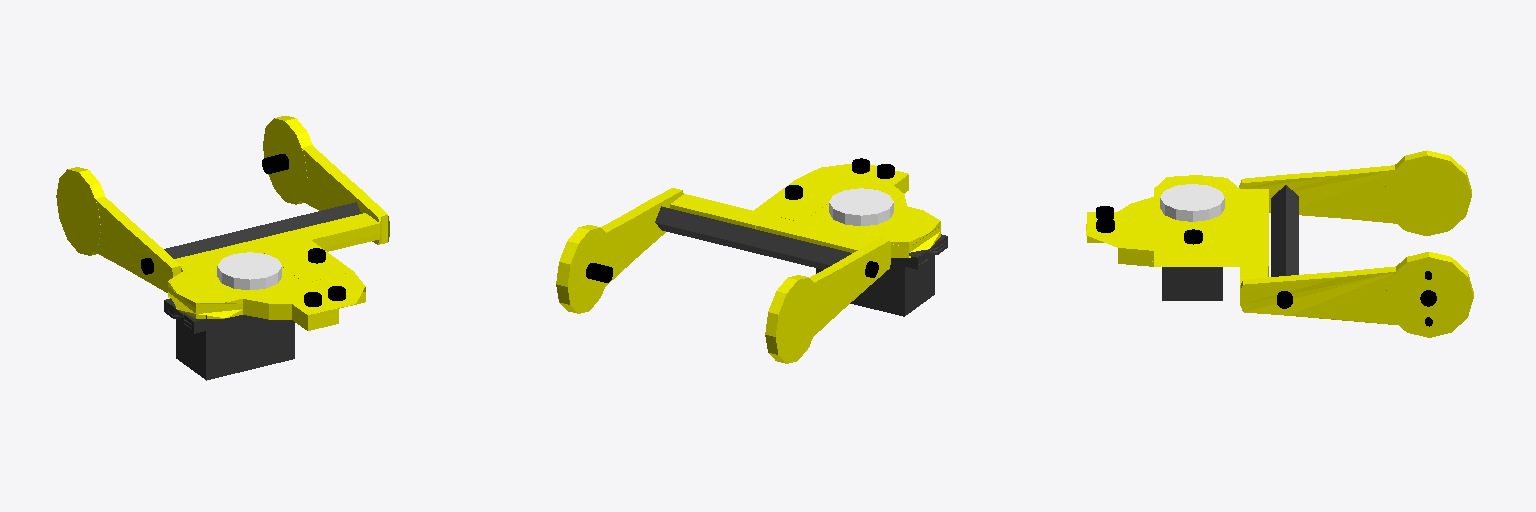
Rendered from hand.obj.
The picture shows the model from 3 angles: view 1: azimuth 30°, elevation 25°; view 2: azimuth 150°, elevation 25°; view 3: azimuth 270°, elevation 25°; orthographic projection.
Visible parts, largest first — view 1: block00034, cylinder07, cylinder08, box[number redacted], box[number redacted], cylinder49, block00055; view 2: block00034, cylinder07, cylinder08, box[number redacted], box[number redacted], cylinder49, block00055; view 3: cylinder08, cylinder07, block00034, box[number redacted], box[number redacted], cylinder49.
Boxes of the visible parts, <box> form: block00034: <box>168,213,379,330</box>; cylinder07: <box>56,167,181,292</box>; cylinder08: <box>263,116,389,244</box>; box[number redacted]: <box>176,315,294,380</box>; box[number redacted]: <box>164,202,360,258</box>; cylinder49: <box>217,252,281,289</box>; block00055: <box>164,298,205,333</box>; block00034: <box>670,164,940,257</box>; cylinder07: <box>765,238,890,363</box>; cylinder08: <box>556,188,683,313</box>; box[number redacted]: <box>655,206,851,269</box>; box[number redacted]: <box>816,253,934,316</box>; cylinder49: <box>829,188,893,225</box>; block00055: <box>905,234,947,269</box>; cylinder08: <box>1240,252,1473,337</box>; cylinder07: <box>1239,150,1471,235</box>; block00034: <box>1086,175,1268,289</box>; box[number redacted]: <box>1271,185,1298,276</box>; box[number redacted]: <box>1162,267,1222,300</box>; cylinder49: <box>1160,184,1224,221</box>.
Bounding box in the file's own units: 0.3256 × 0.142 × 0.4524.